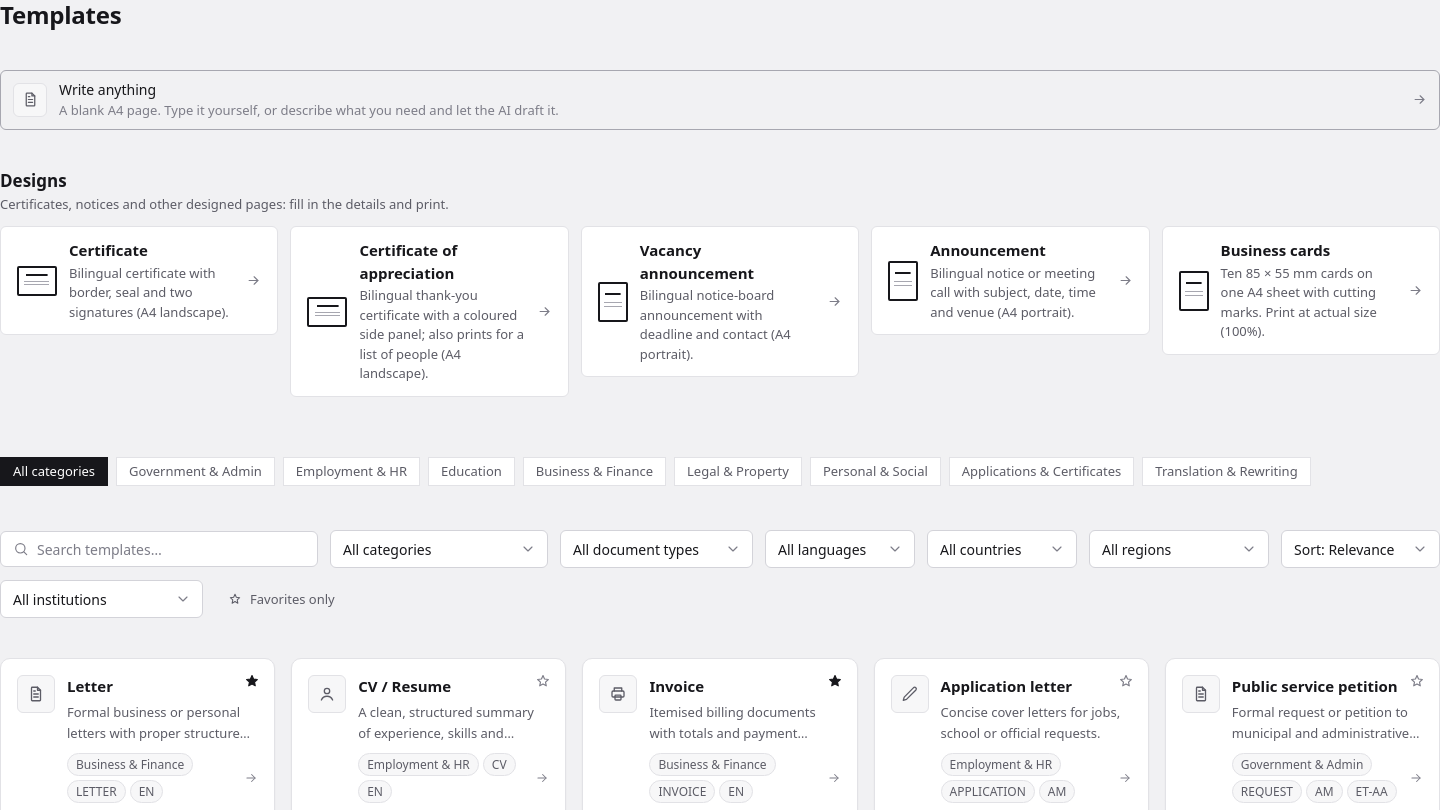
Test case: TemplatesPage Filtering & Multilingual Browser › filters by cross-border countries such as Djibouti and Kenya
This screenshot has width=1440, height=810.
Select "Djibouti" in the dropdown named "Country" at (1002, 549), box [927, 530, 1077, 568]
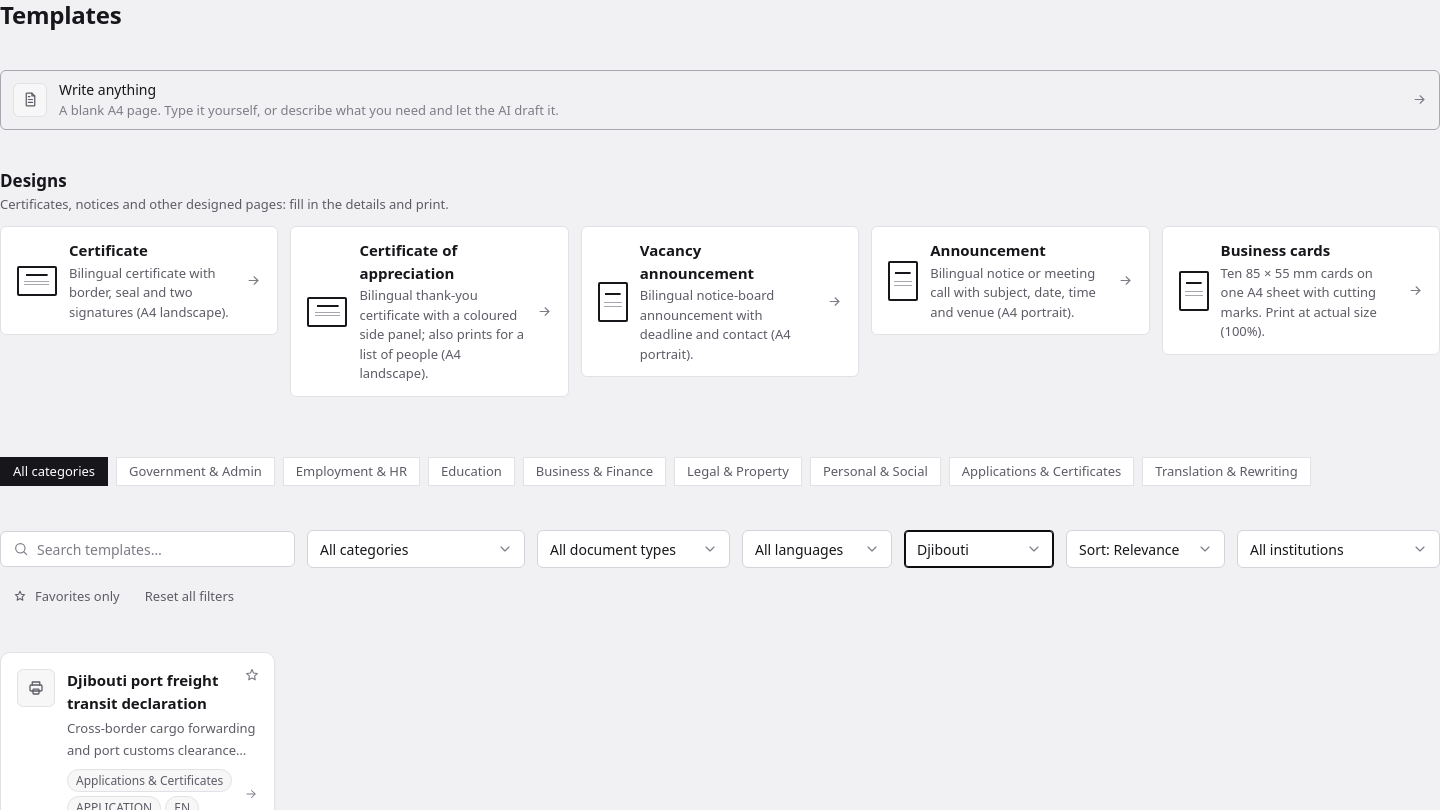
Expected: the text "Djibouti port freight transit declaration" is shown, [67, 670, 218, 713]
Select "Kenya" in the dropdown named "Country" at (979, 549), box [904, 530, 1054, 568]
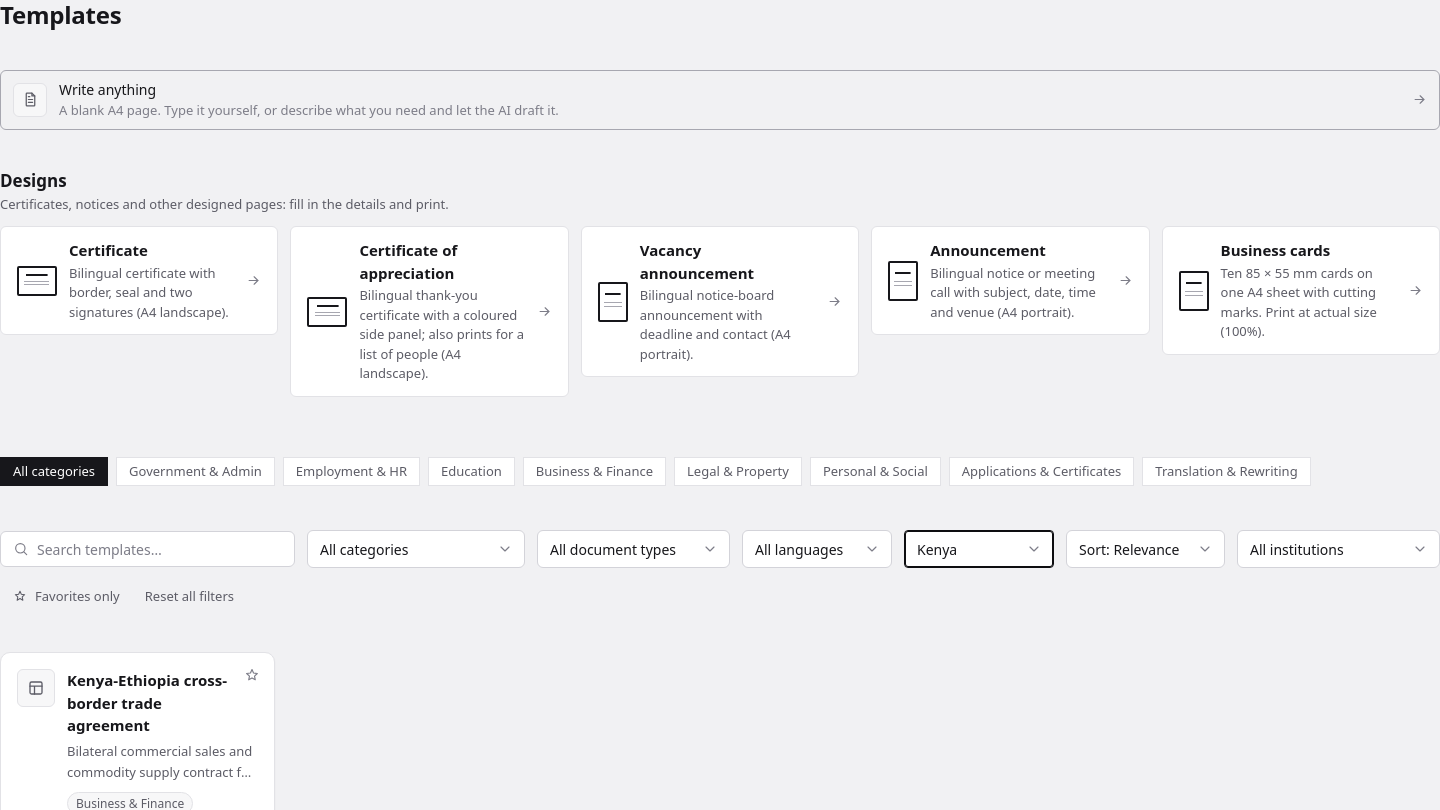
Expected: the text "Kenya-Ethiopia cross-border trade agreement" is shown, [67, 670, 227, 735]
